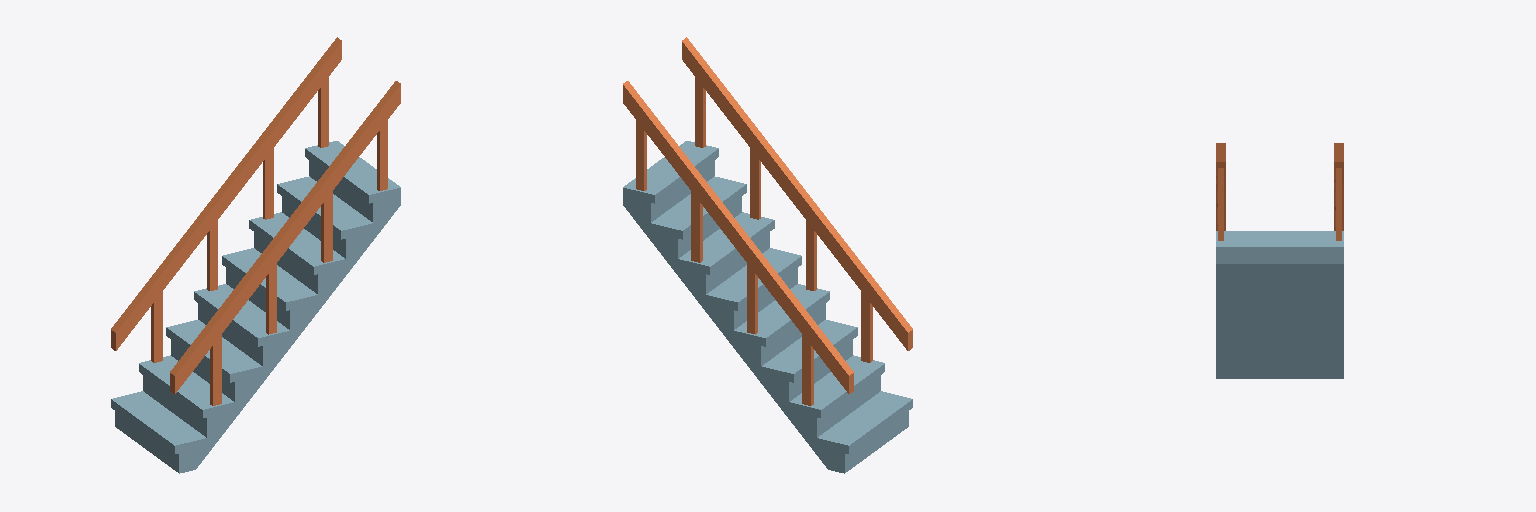
The model's file is stairsStoneHandrail.obj.
3 renders of one model, left to right at view 1: azimuth 30°, elevation 25°; view 2: azimuth 150°, elevation 25°; view 3: azimuth 270°, elevation 25°, orthographic.
Visible parts, largest first — view 1: stairsStoneHandrail, rail; view 2: stairsStoneHandrail, rail; view 3: stairsStoneHandrail, rail.
Part boxes in pixels (x1,y1,x2,y2): stairsStoneHandrail: (111,141,400,473); rail: (111,37,400,405); stairsStoneHandrail: (623,141,912,473); rail: (623,37,912,405); stairsStoneHandrail: (1216,231,1343,378); rail: (1216,143,1343,240).
Size of the model in its own units: 1.02 by 1.45 by 0.5.